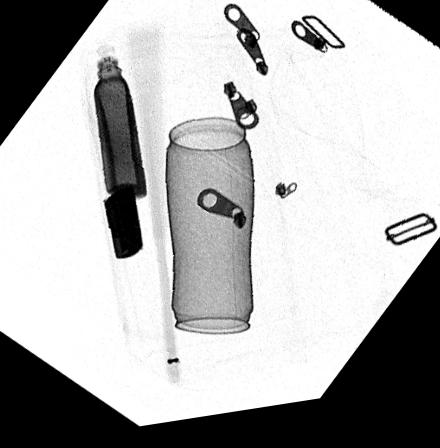Lighter: (101, 190, 143, 263)
